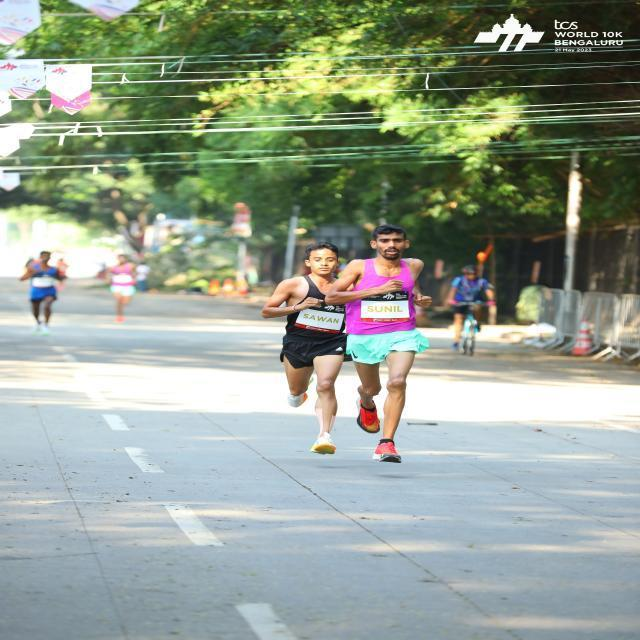dorsal: (360, 292, 412, 324), (299, 301, 346, 335)
